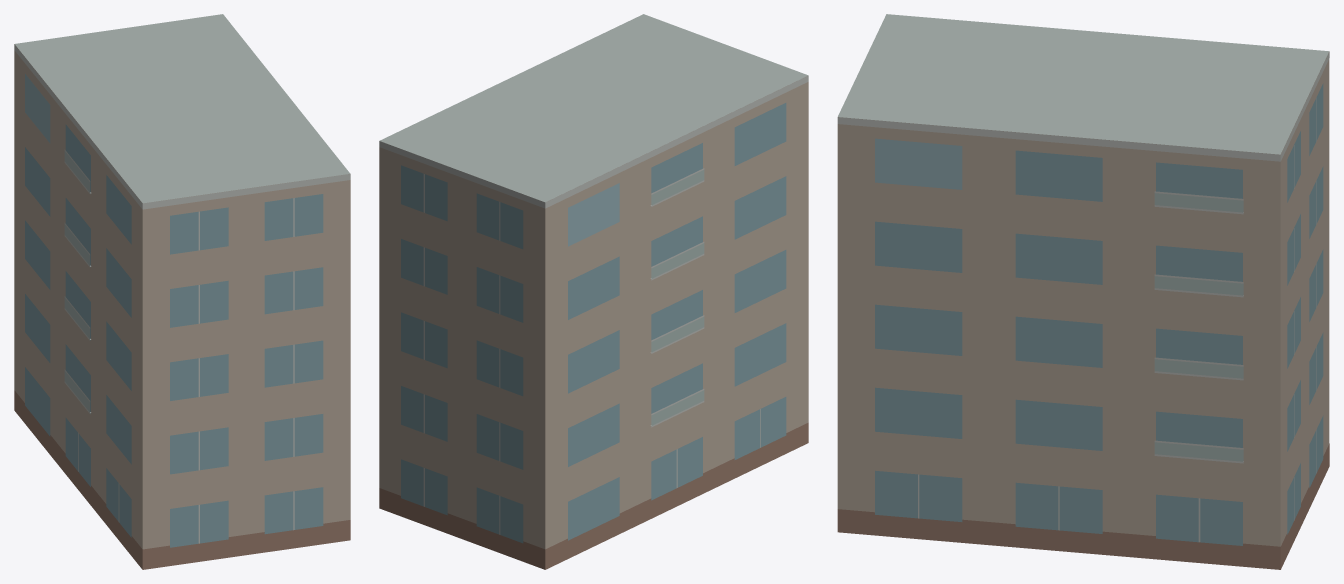
Rendered from survey-upis-32932384.glb.
The picture shows the model from 3 angles, left to right: view 1: azimuth 30°, elevation 25°; view 2: azimuth 150°, elevation 25°; view 3: azimuth 270°, elevation 25°; orthographic projection. The views are drawn at different scales.
Parts seen in each view (by area): view 1: survey-upis-32932384.tmp; view 2: survey-upis-32932384.tmp; view 3: survey-upis-32932384.tmp.
Boxes of the visible parts, x1=… form: survey-upis-32932384.tmp: x1=14, y1=14, x2=350, y2=569; survey-upis-32932384.tmp: x1=379, y1=14, x2=808, y2=569; survey-upis-32932384.tmp: x1=837, y1=14, x2=1329, y2=569.
Size of the model in its own units: 10.47 by 14.4 by 15.47.
